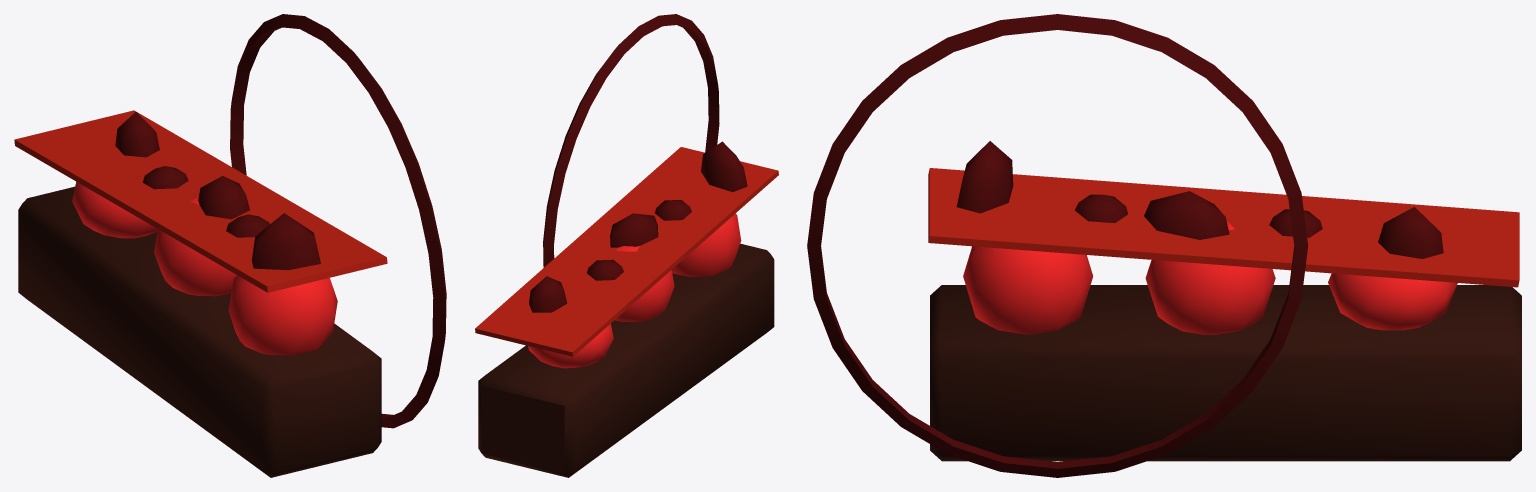
Rendered from SM_ExpensiveDessert.FBX.
3 views of the same model, side by side, from view 1: azimuth 30°, elevation 25°; view 2: azimuth 150°, elevation 25°; view 3: azimuth 270°, elevation 25° (orthographic). The views are drawn at different scales.
Visible parts, largest first — view 1: Box001; view 2: Box001; view 3: Box001.
Boxes of the visible parts, left/top/right/bottom form: Box001: left=14, top=14, right=446, bottom=477; Box001: left=475, top=14, right=778, bottom=477; Box001: left=807, top=14, right=1521, bottom=477.
Bounding box in the file's own units: 6.29 × 16.54 × 23.62.
